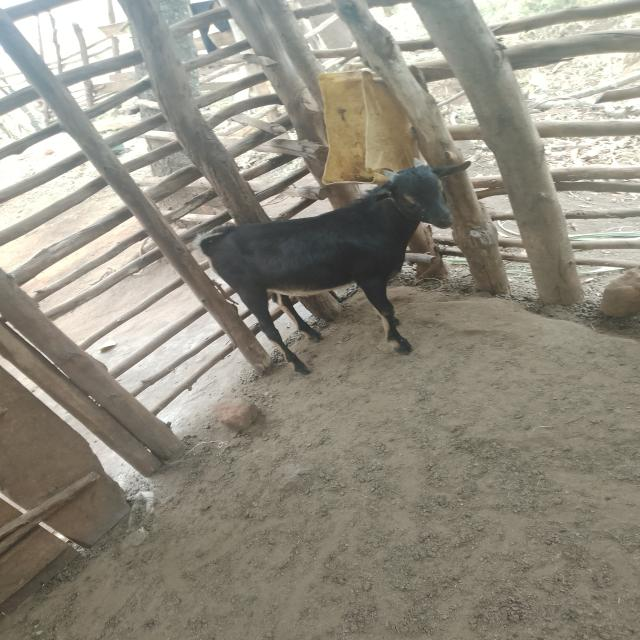goat: (119, 120, 602, 404)
